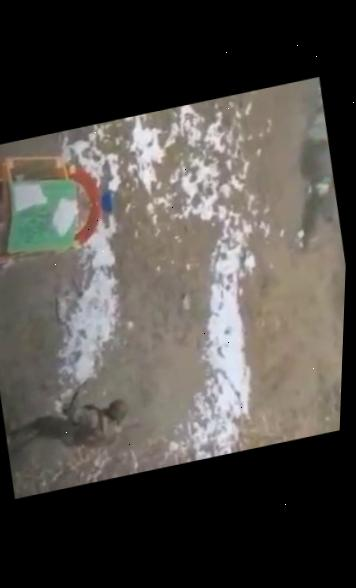person: (0, 367, 138, 465)
